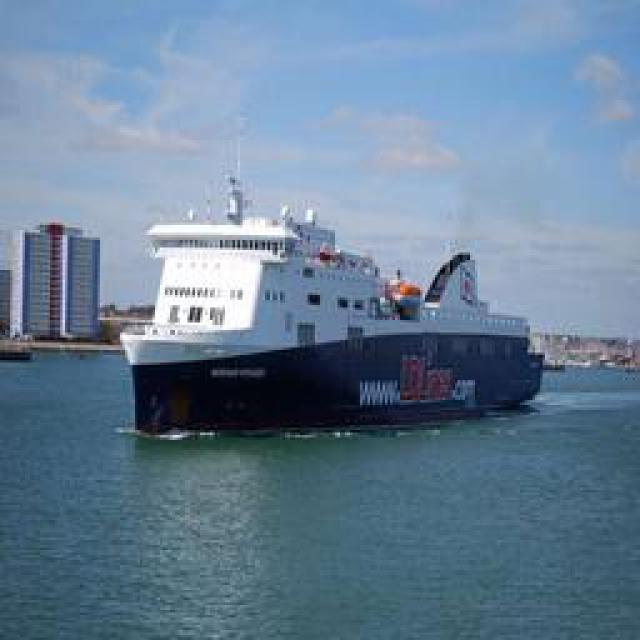Ship: (120, 185, 548, 440)
